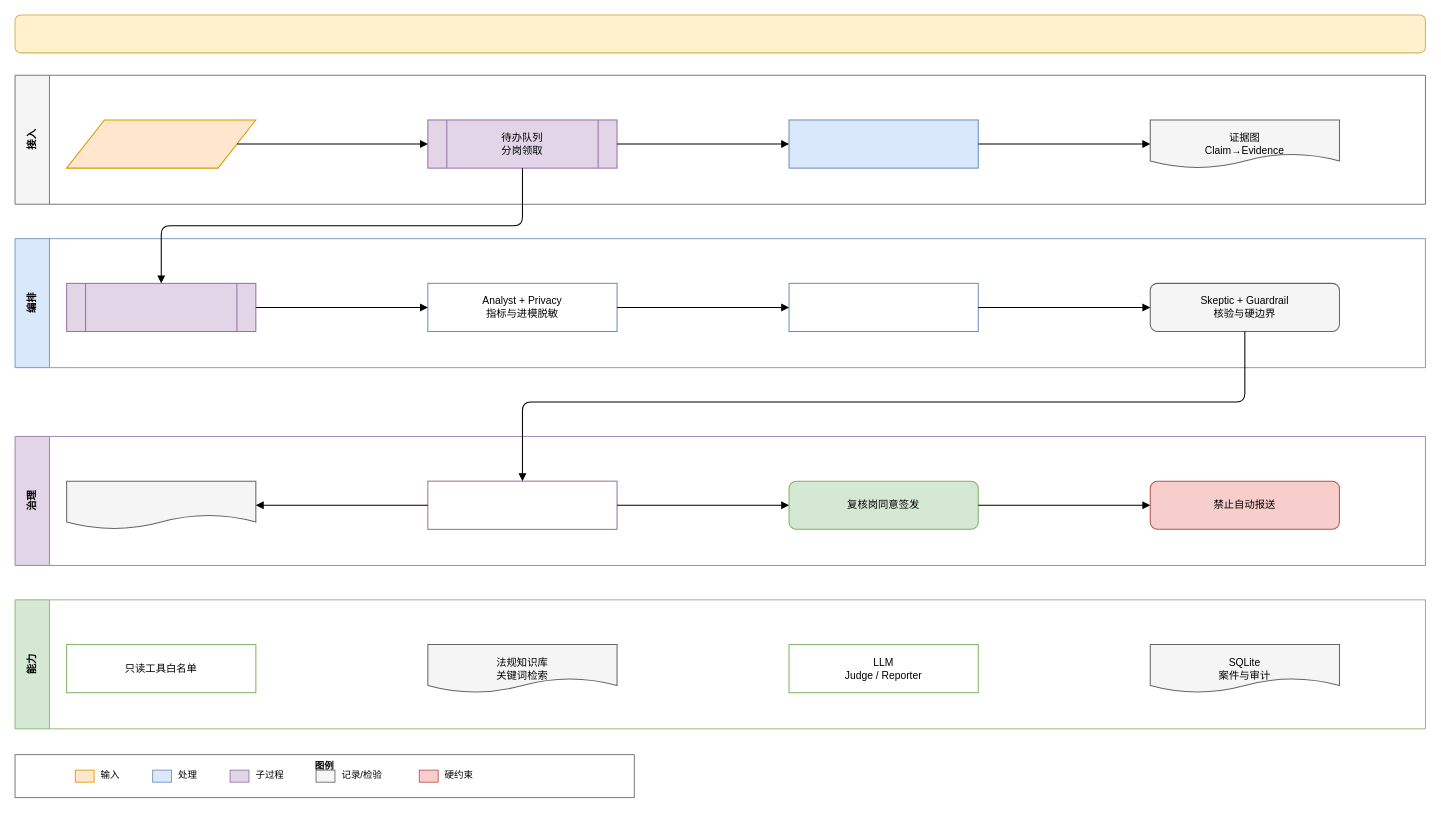
The diagram is 1441 pixels wide and 814 high, and some of its shapes have lost their labels. The shapes that lost their labels are listed below. From the top down, each one's centre as x and y in pixels, then its label:
the point at 720,33: 循证慧查：AI 负责推理 · 规则负责边界 · 证据负责事实 · 人负责最终决策（Agent 只建议，不得自动报送）
the point at 161,143: 上游告警
the point at 883,143: 作业栏 证据与建议
the point at 161,307: Planner + Collector 只读取证
the point at 883,307: Evidence Judge 三档建议
the point at 161,504: 审计轨迹
the point at 522,504: 调查员提交复核
